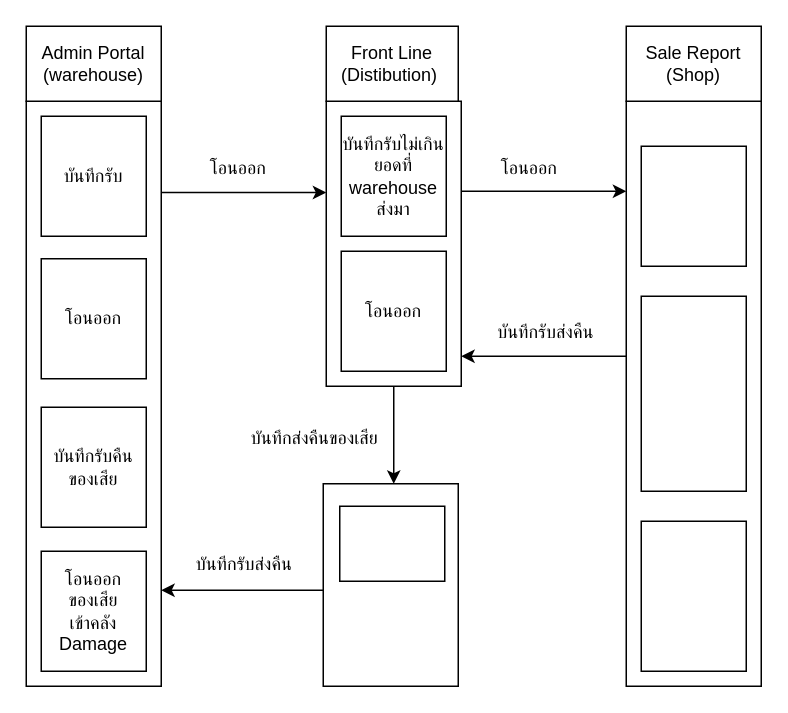
Some shapes in this 788 by 713 pixel diagram are drawn without their labels. Each missing label, with the box of its shape:
Distibution: (338, 505, 445, 581)
ตรวจนับ ยอด < คงเหลือ ตัดยอดคืน DC: (640, 145, 746, 266)
ตรวจนับ ยอด > คงเหลือ แจ้ง Admin ทำ Adjust In,Transfer: (640, 295, 746, 491)
บันทึก รายการขาย: (640, 520, 746, 671)
